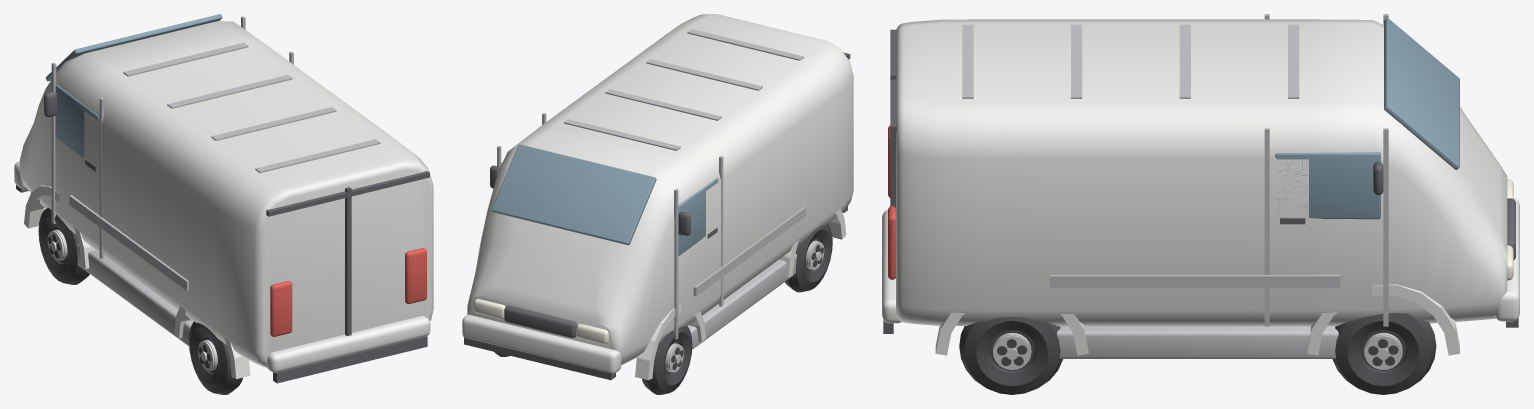
File: th7_lieferwagen.glb
3 views of the same model, side by side, from view 1: azimuth 30°, elevation 25°; view 2: azimuth 150°, elevation 25°; view 3: azimuth 270°, elevation 25° (orthographic). The views are drawn at different scales.
Visible parts, largest first — view 1: Karosserie, Cube.067, Cube.036, Torus, Torus.002, Cube.068, Cube.045, Cube.051, Cube.064, Cube.065, Cube.044, Cube.066 (+8 smaller); view 2: Karosserie, Cube.044, Cube.037, Cube.036, Torus.002, Torus, Cube.039, Cube.051, Cube.045, Cube.038, Cube.047, Cube.061 (+7 smaller); view 3: Karosserie, Cube.036, Cube.044, Torus.003, Torus.001, Cube.052, Cube.058, Cube.054, Cube.037, Cube.053, Cube.067, Cube.059 (+7 smaller).
Boxes of the visible parts, x1,y1,x2,y2 form: Karosserie: (19,21,433,367); Cube.067: (266,316,430,372); Cube.036: (76,243,193,346); Torus: (189,321,242,394); Torus.002: (38,207,89,284); Cube.068: (273,336,427,383); Cube.045: (55,84,98,157); Cube.051: (69,195,188,290); Cube.064: (266,171,429,216); Cube.065: (270,281,292,336); Cube.044: (45,14,222,81); Cube.066: (405,248,426,303); Karosserie: (467,14,853,365); Cube.044: (491,144,656,245); Cube.037: (462,314,621,374); Cube.036: (687,253,796,349); Torus.002: (642,326,692,394); Torus: (785,223,832,292); Cube.039: (504,305,576,337); Cube.051: (693,207,805,296); Cube.045: (678,177,718,255); Cube.038: (464,337,615,380); Cube.047: (674,189,678,339); Cube.061: (605,89,721,120); Karosserie: (896,19,1507,326); Cube.036: (1057,326,1338,358); Cube.044: (1384,18,1459,169); Torus.003: (1332,313,1436,394); Torus.001: (959,317,1062,394); Cube.052: (1275,151,1380,219); Cube.058: (1050,274,1340,287); Cube.054: (1383,128,1388,326); Cube.037: (1495,198,1519,321); Cube.053: (1264,128,1269,326); Cube.067: (882,210,901,323); Cube.059: (962,24,973,98).
Bounding box in the file's own units: 2.42 × 2.48 × 5.05.
